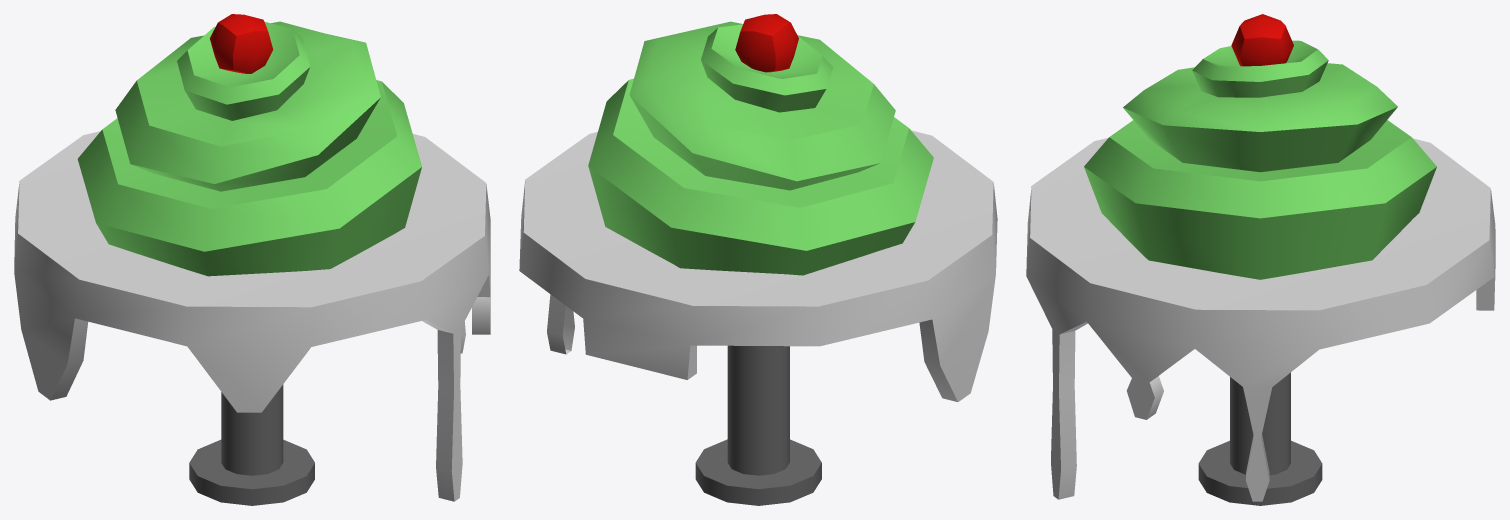
The model's file is IceCreamTable1_RC02.fbx.
3 renders of one model, left to right at view 1: azimuth 30°, elevation 25°; view 2: azimuth 150°, elevation 25°; view 3: azimuth 270°, elevation 25°, orthographic.
Parts seen in each view (by area): view 1: IceCreamFBX_Table1; view 2: IceCreamFBX_Table1; view 3: IceCreamFBX_Table1.
Boxes of the visible parts, x1,y1,x2,y2 form: IceCreamFBX_Table1: (14,14,490,505); IceCreamFBX_Table1: (519,14,997,505); IceCreamFBX_Table1: (1026,14,1495,505).
Bounding box in the file's own units: 1.61 × 1.73 × 1.6.
